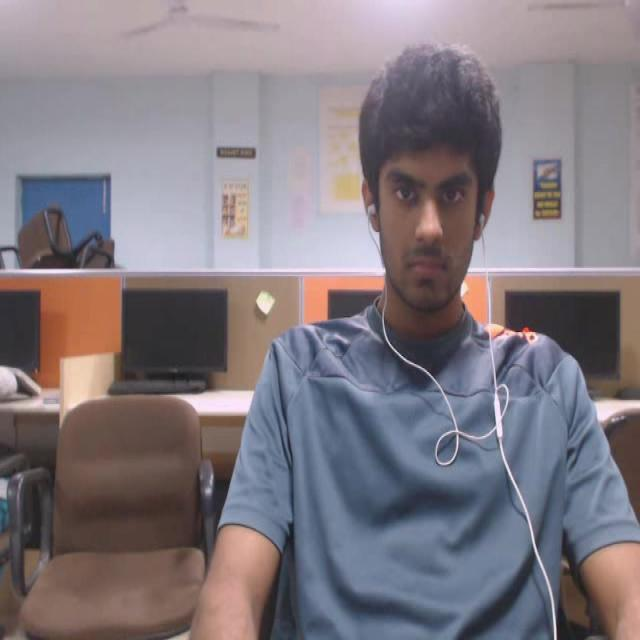Engaged: (342, 22, 533, 354)
